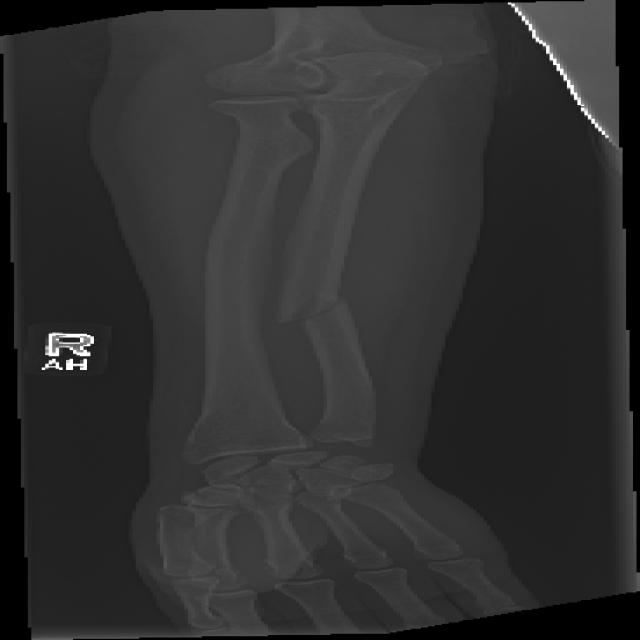forearm fracture: (244, 268, 411, 360)
